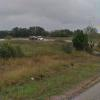Tree: (62, 18, 86, 51)
